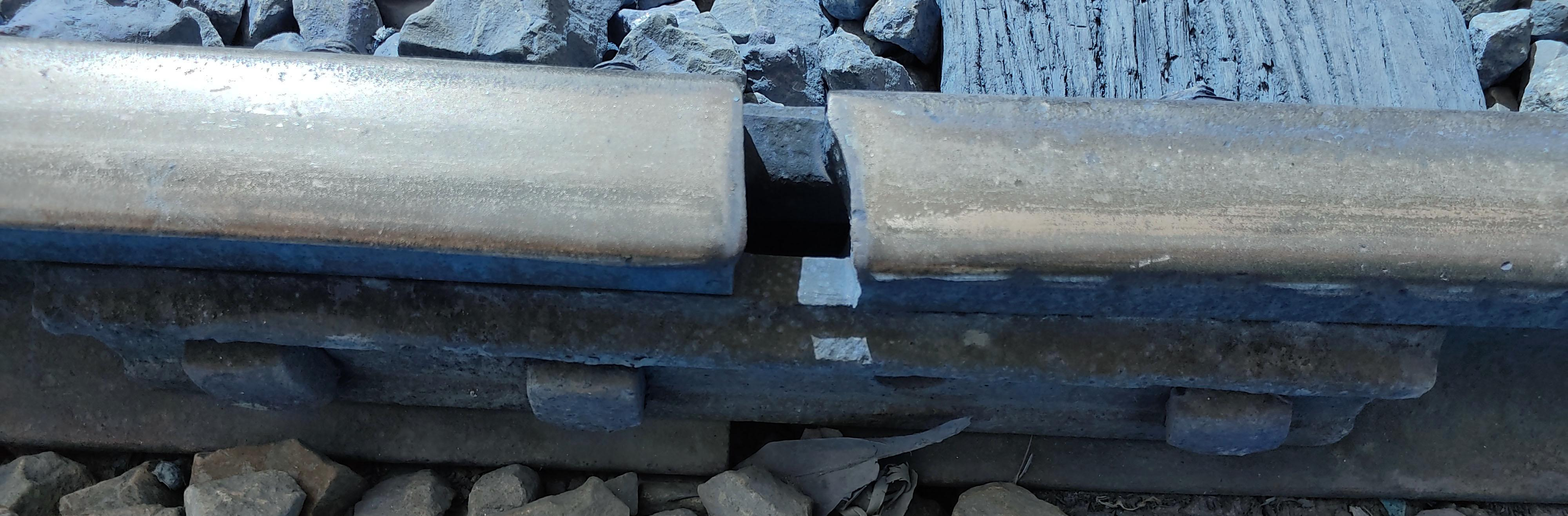duan lie: (708, 64, 881, 314)
